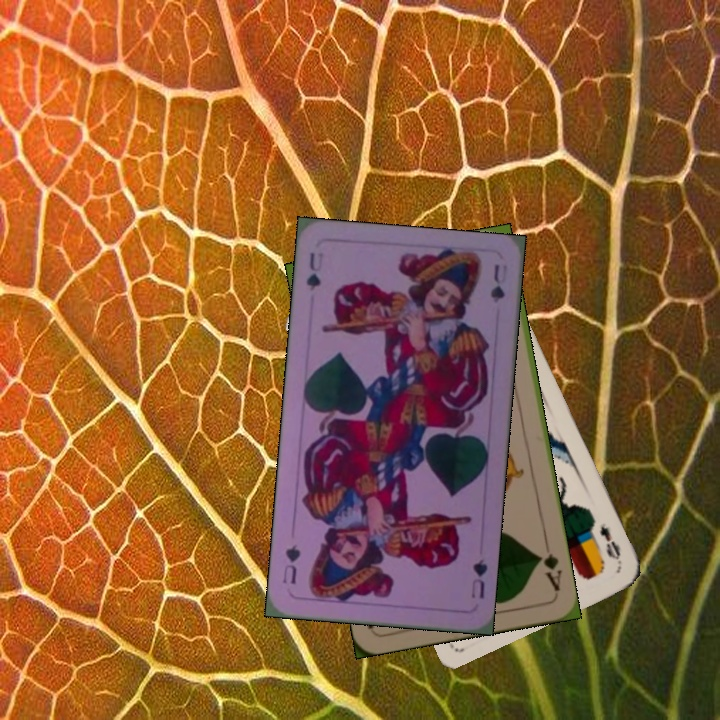EO: (588, 513, 624, 566)
GA: (534, 537, 564, 594)
GU: (467, 555, 490, 602), (302, 248, 326, 293)
